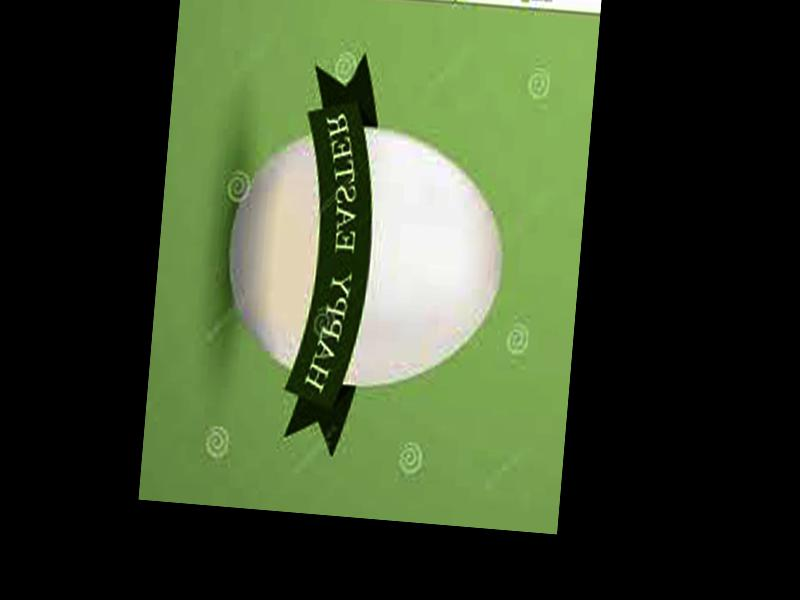Eggs: (220, 115, 512, 394)
